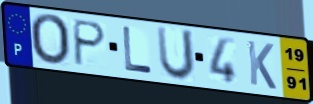4: (207, 35, 240, 87)
K: (245, 38, 278, 92)
L: (121, 24, 153, 76)
O: (28, 12, 72, 68)
P: (72, 17, 108, 68)
U: (155, 24, 197, 83)
